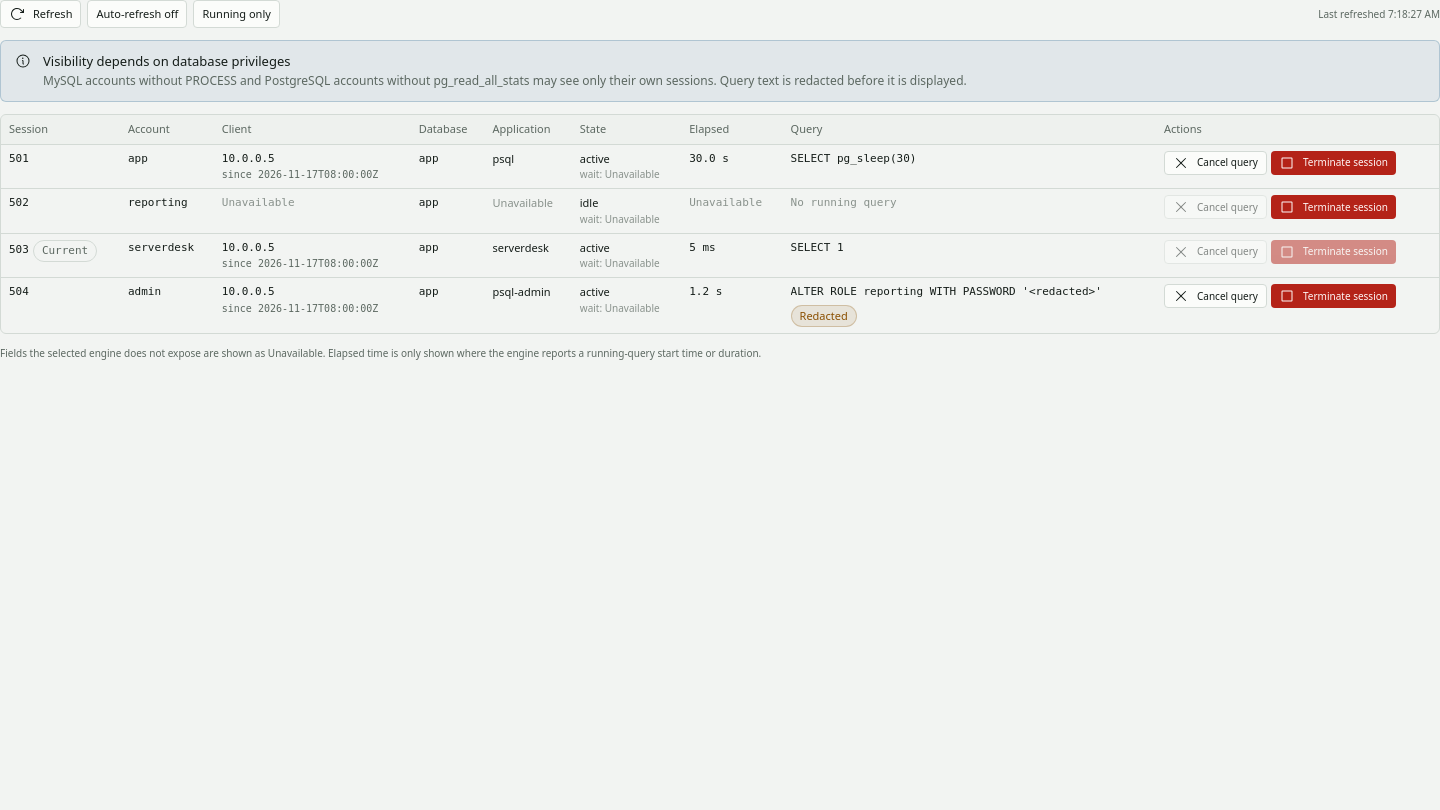
Scenario: DatabaseSessionsPanel › requires the exact confirmation phrase before terminating
Expected: the text "SELECT pg_sleep(30)" is shown, [791,152,916,164]
Click the button "Terminate session" in the row of "501". click: click(1333, 162)
box: [1271,150,1396,174]
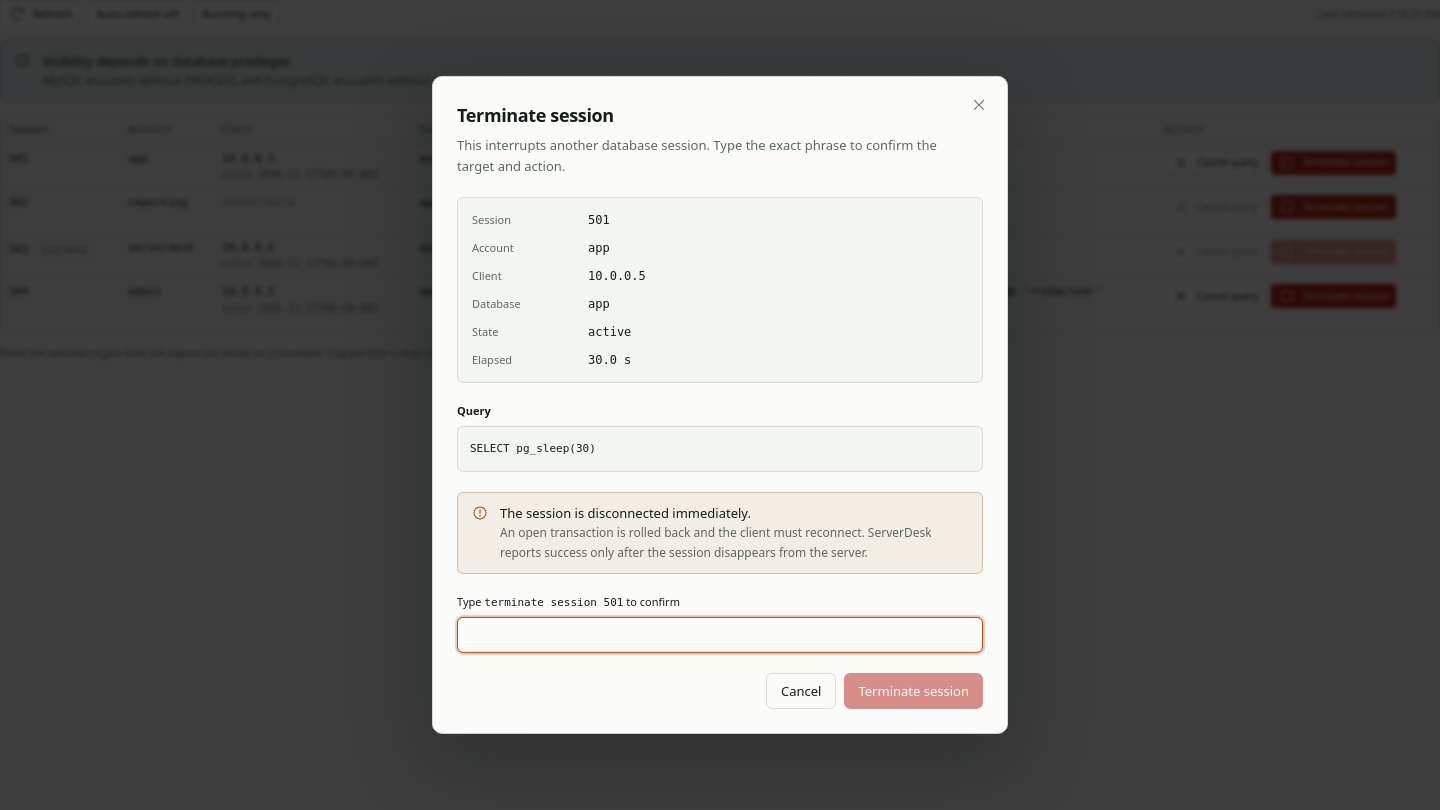
Now the button "Terminate session" is disabled, box [844,673,983,709]
Type "terminate session 501" into the field labelled "Type terminate session 501 to confirm". click: (720, 635)
box: [457,617,983,653]
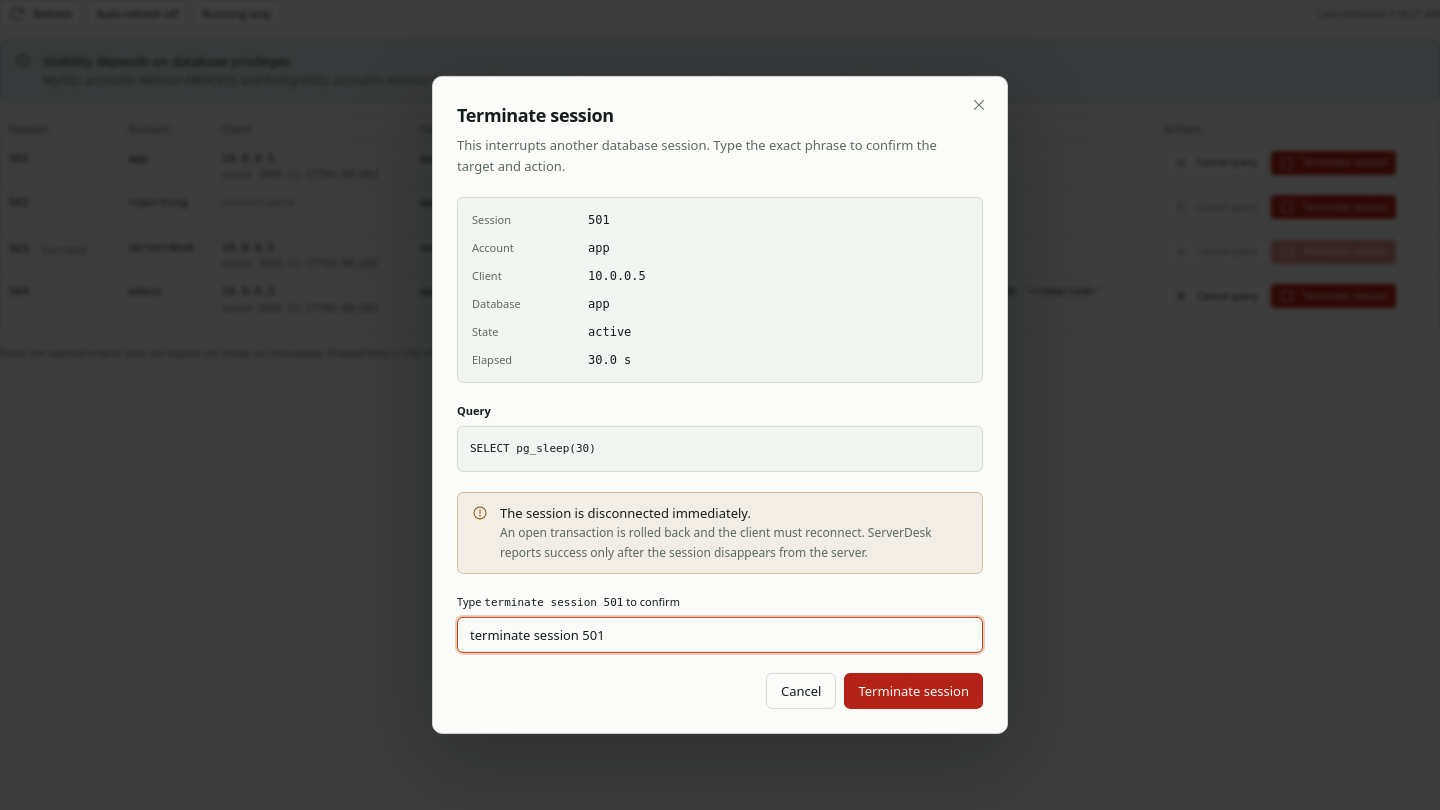
Now the button "Terminate session" is enabled
Click the button "Terminate session". click: click(914, 691)
box: [844,673,983,709]
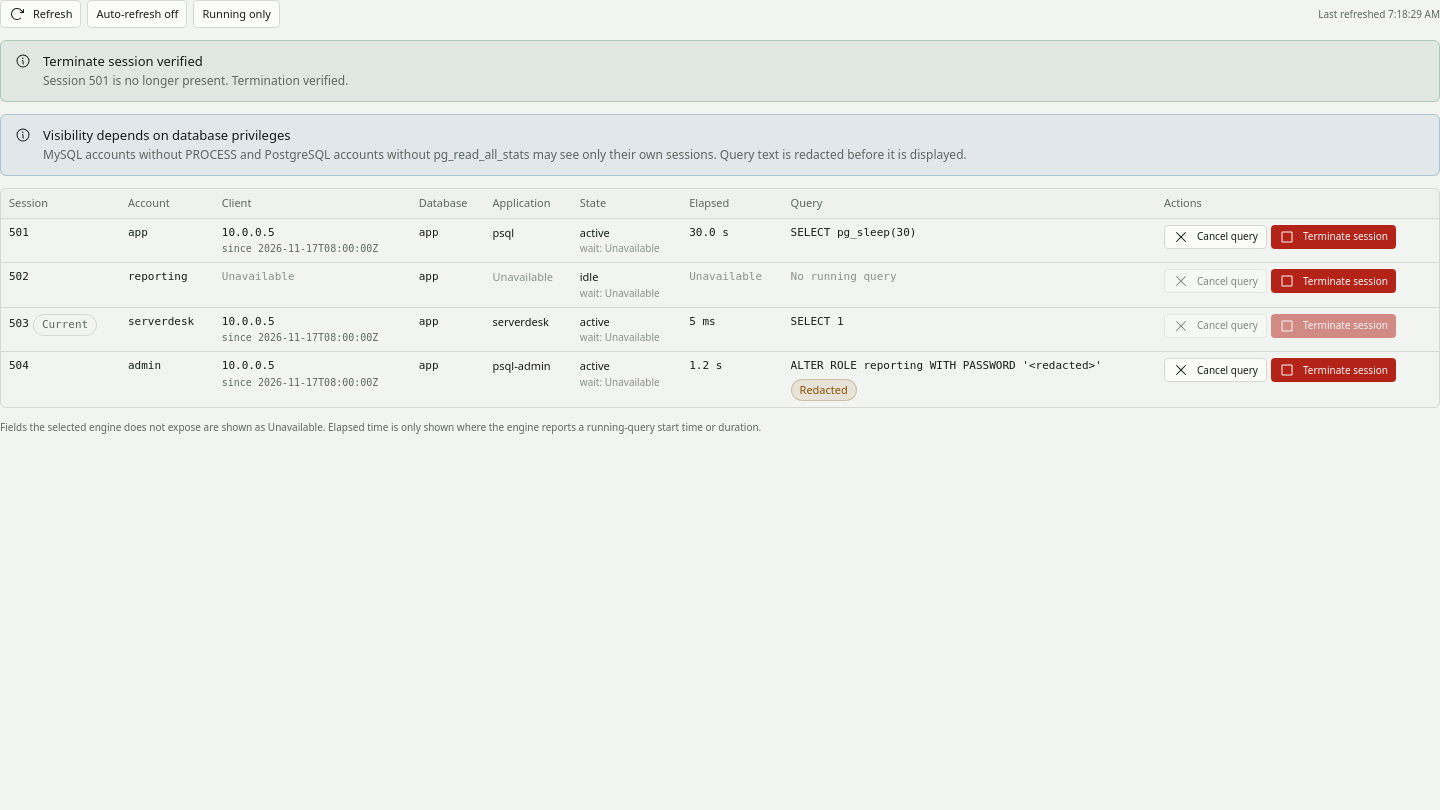
Now the text "Terminate session verified" is shown, box [43,52,203,70]
